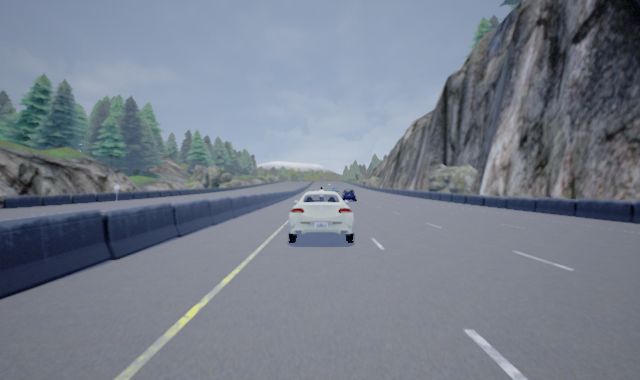vehicle: (287, 190, 354, 243), (341, 190, 356, 202)
